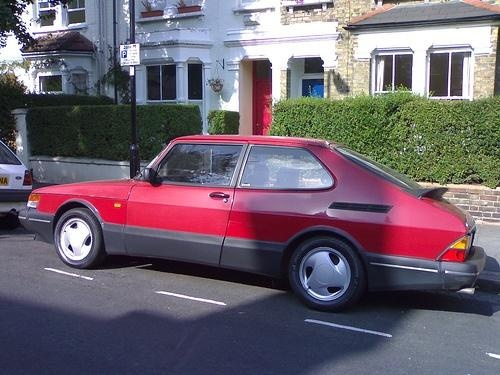car: (18, 137, 488, 314), (1, 141, 34, 230)
